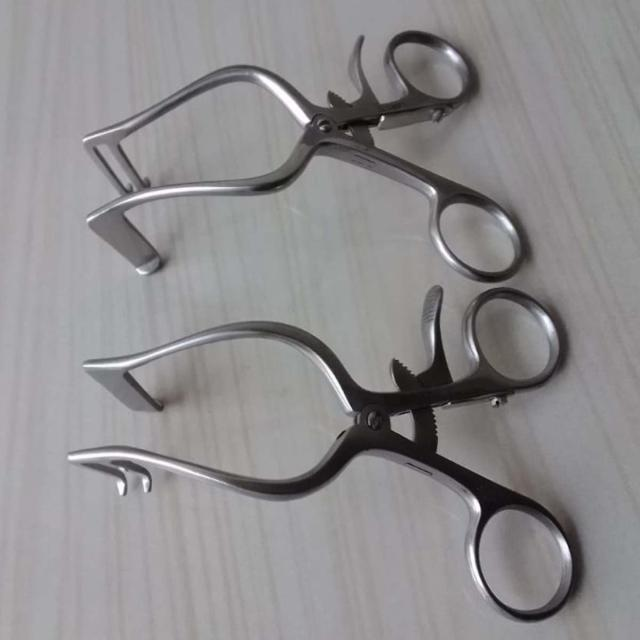Self Retractor: (62, 282, 602, 627), (63, 17, 529, 285)
